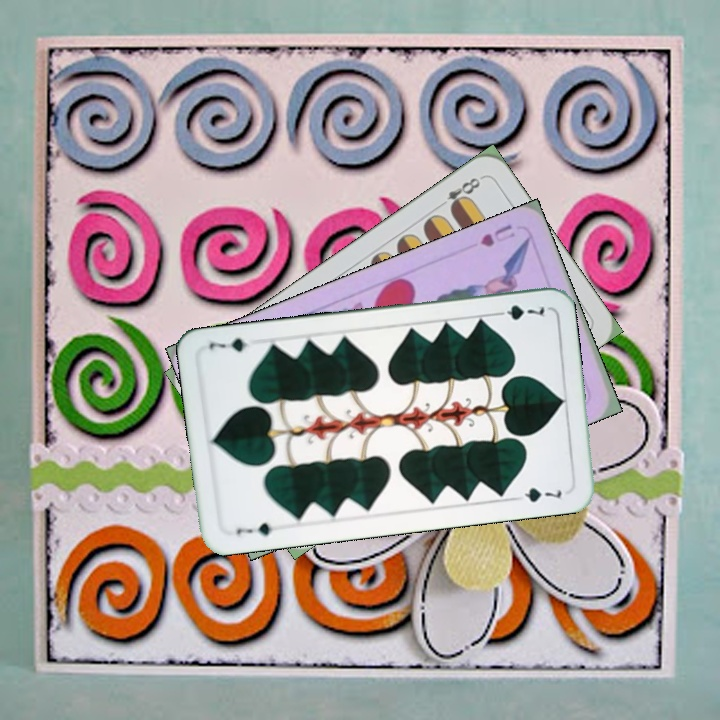E8: (433, 173, 485, 214)
G7: (489, 301, 547, 323), (232, 518, 275, 539)
HU: (476, 220, 518, 250)
